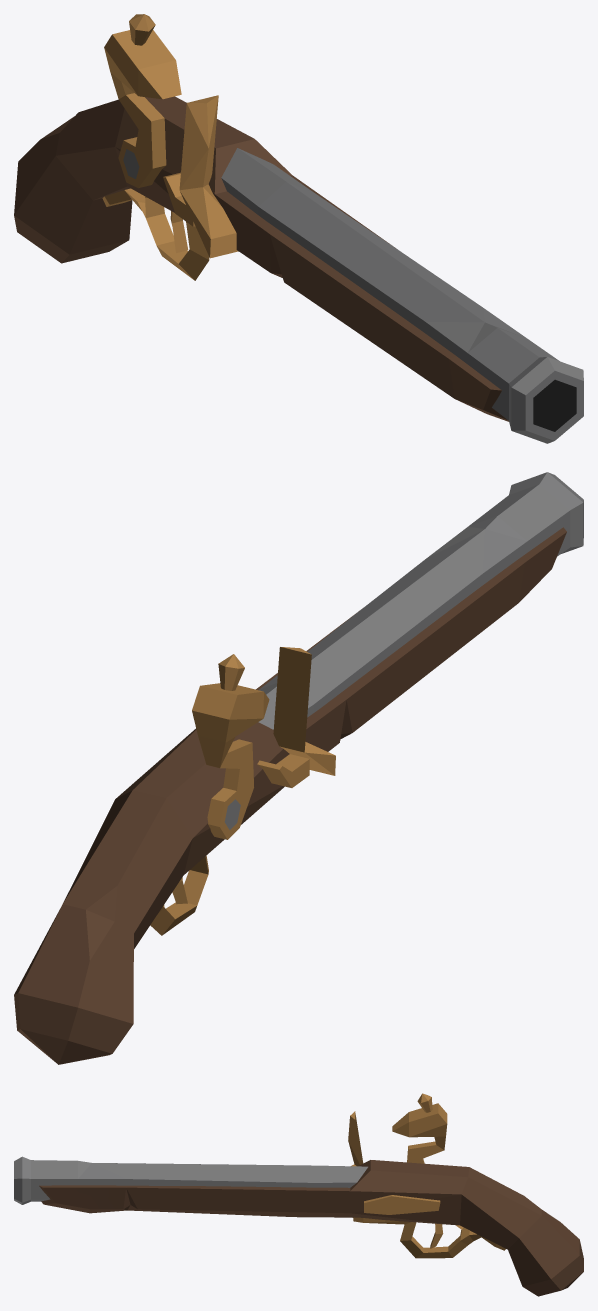
Rendered from SM_Wep_MusketPistol_01_Separate.glb.
3 views of the same model, one above another, from view 1: azimuth 30°, elevation 25°; view 2: azimuth 150°, elevation 25°; view 3: azimuth 270°, elevation 25° (orthographic). The views are drawn at different scales.
Parts seen in each view (by area): view 1: SM_Wep_MusketPistol_01_Trigger; view 2: SM_Wep_MusketPistol_01_Trigger; view 3: SM_Wep_MusketPistol_01_Trigger.
Boxes of the visible parts, x1=… form: SM_Wep_MusketPistol_01_Trigger: x1=14, y1=14, x2=583, y2=443; SM_Wep_MusketPistol_01_Trigger: x1=14, y1=472, x2=583, y2=1064; SM_Wep_MusketPistol_01_Trigger: x1=14, y1=1093, x2=583, y2=1296.
Bounding box in the file's own units: 0.000955 × 0.00246 × 0.00689.
